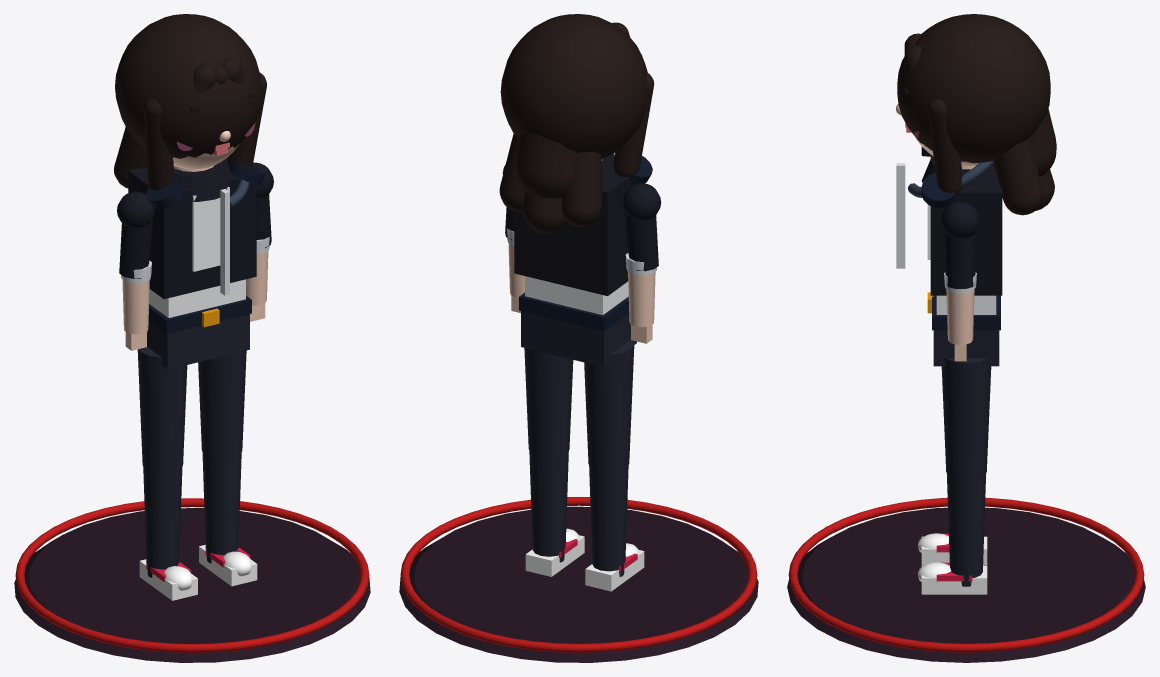
Rendered from aditi-avatar.glb.
3 renders of one model, left to right at view 1: azimuth 30°, elevation 25°; view 2: azimuth 150°, elevation 25°; view 3: azimuth 270°, elevation 25°, orthographic.
Parts seen in each view (by area): view 1: AditiSharmaAvatar, object 26, object 3, object 49, object 54, object 50, object 55, object 5, object 34, object 2, object 40, object 4 (+12 smaller); view 2: AditiSharmaAvatar, object 26, object 3, object 49, object 54, object 55, object 50, object 27, object 29, object 2, object 40, object 41 (+7 smaller); view 3: AditiSharmaAvatar, object 26, object 54, object 3, object 55, object 30, object 35, object 45, object 46, object 44, object 27, object 56 (+5 smaller).
Boxes of the visible parts, x1,y1,x2,y2 form: AditiSharmaAvatar: (14,296,370,662); object 26: (115,14,261,158); object 3: (128,167,256,299); object 49: (137,347,187,473); object 54: (198,350,246,459); object 50: (143,467,182,577); object 55: (202,452,241,563); object 5: (192,187,229,271); object 34: (143,99,174,190); object 2: (149,279,245,317); object 40: (119,219,153,278); object 4: (174,158,231,201); AditiSharmaAvatar: (399,292,758,662); object 26: (500,14,647,159); object 3: (514,174,633,296); object 49: (584,339,634,472); object 54: (524,348,573,457); object 55: (529,450,568,562); object 50: (589,465,628,576); object 27: (515,133,576,198); object 29: (562,151,601,226); object 2: (525,276,628,314); object 40: (624,211,658,271); object 41: (628,271,655,327); AditiSharmaAvatar: (787,292,1145,662); object 26: (897,14,1050,163); object 54: (941,358,991,480); object 3: (930,155,1002,295); object 55: (946,473,986,586); object 30: (993,139,1043,215); object 35: (927,99,963,194); object 45: (944,231,976,288); object 46: (946,289,974,344); object 44: (941,201,979,238); object 27: (992,108,1056,176); object 56: (921,565,987,594).
Size of the model in its own units: 1.2 by 2.09 by 1.2.
